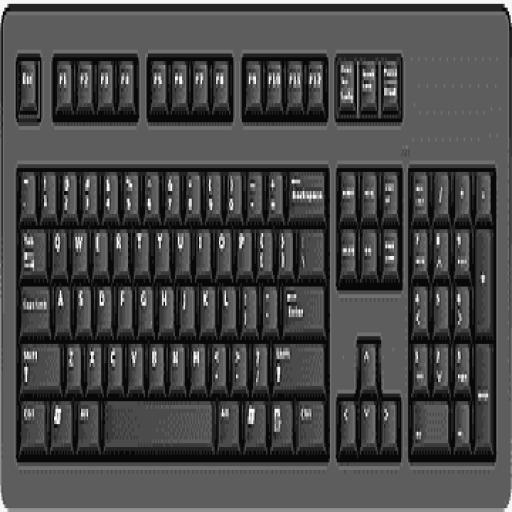keyboard: (0, 8, 511, 508)
